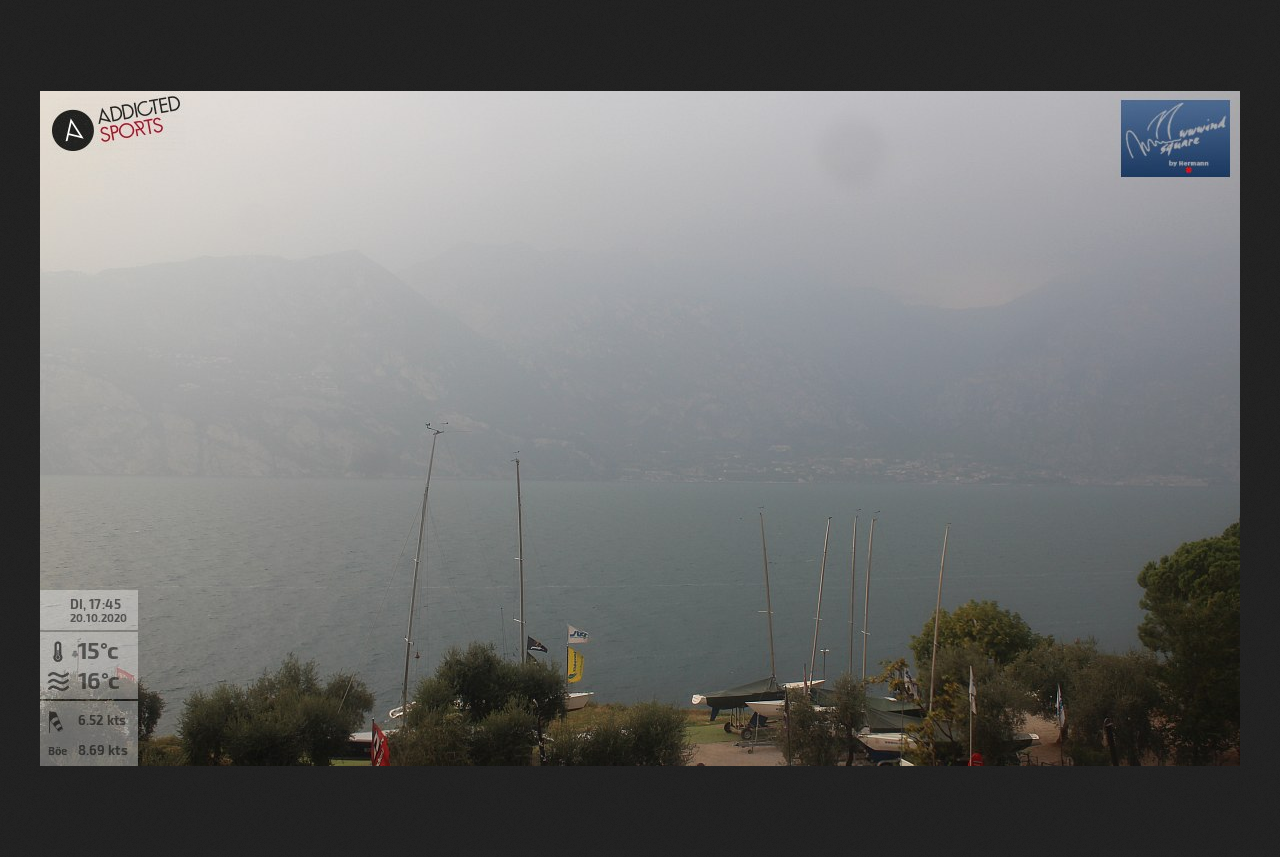no: (965, 665, 980, 712)
yes: (565, 647, 585, 682), (568, 623, 589, 647), (524, 632, 547, 653)
